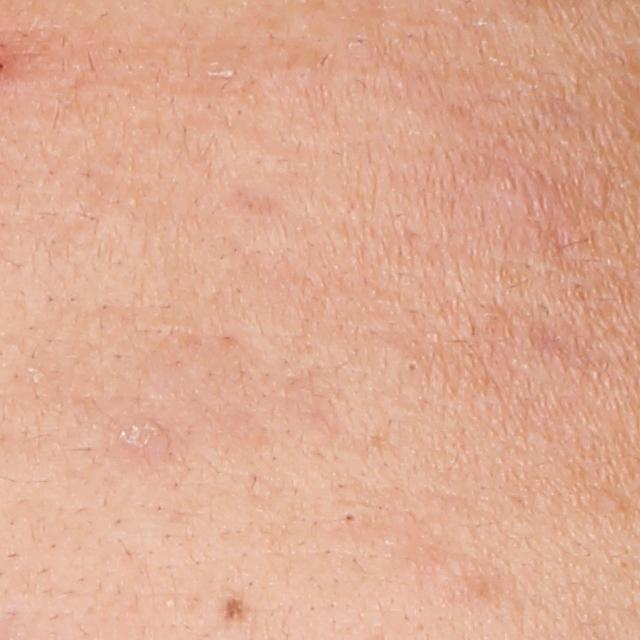comedo: (339, 506, 364, 529), (400, 356, 422, 376)
nevus: (210, 588, 271, 630)
